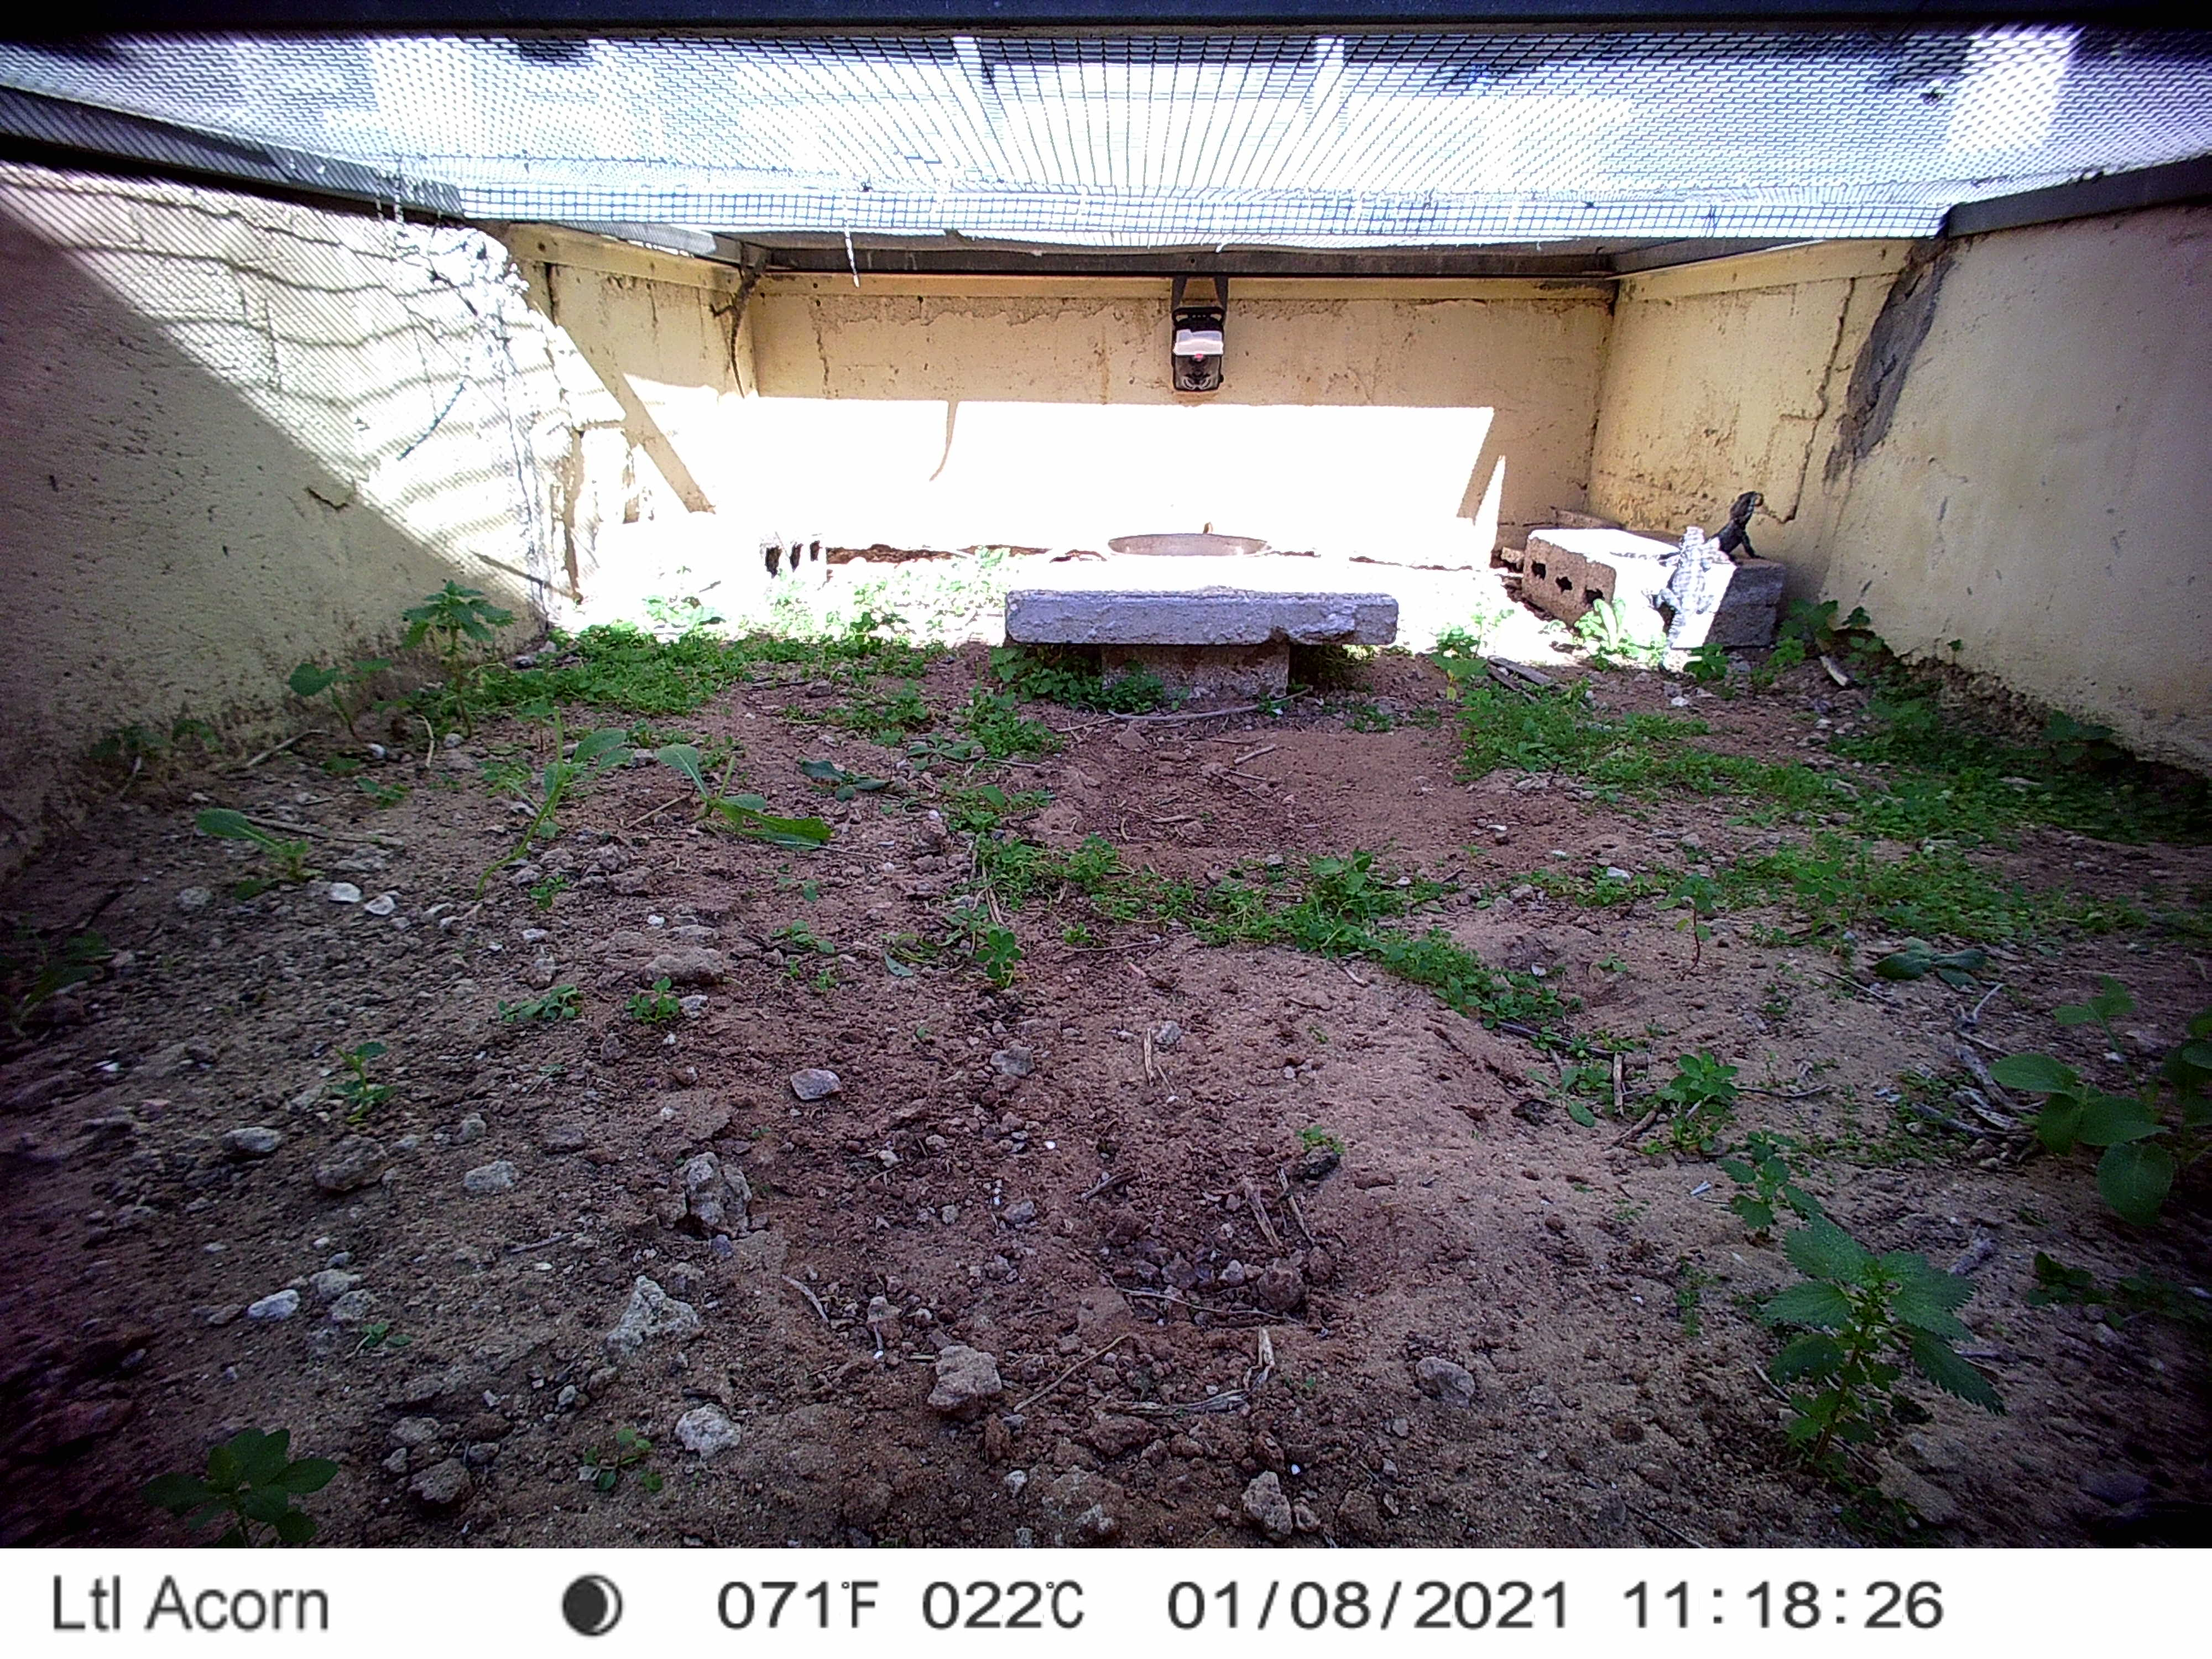lizard: (1653, 523, 1721, 680), (711, 249, 782, 389), (1712, 484, 1784, 573)
